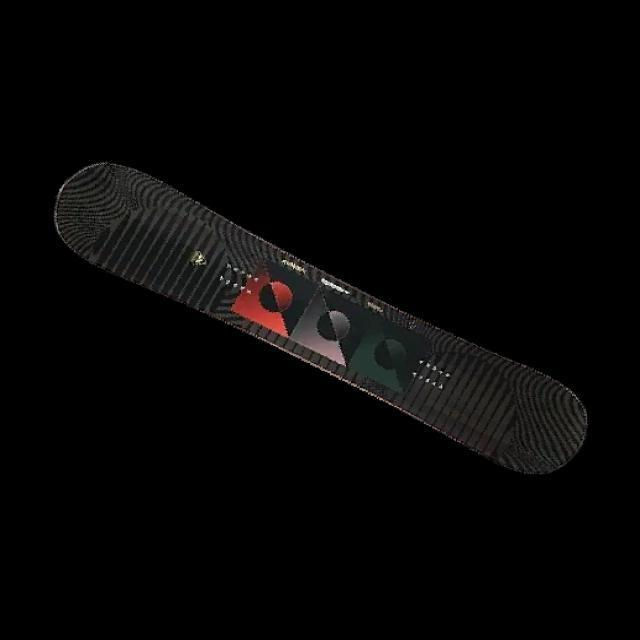Snowboard: (53, 160, 589, 476)
